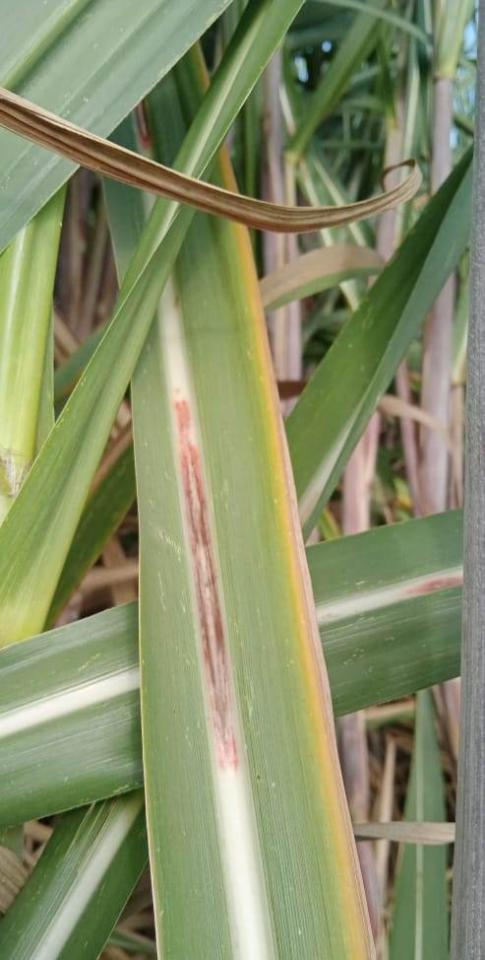RedRot: (172, 386, 241, 775), (403, 576, 463, 595), (135, 98, 154, 151)
Yellow: (232, 221, 370, 959), (190, 39, 212, 95), (219, 138, 240, 194)
